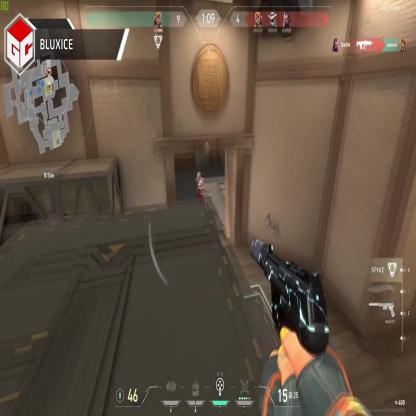enemy: (196, 172, 204, 208)
enemy_head: (196, 172, 201, 179)
